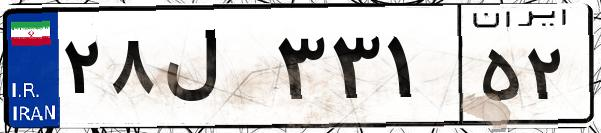1: (385, 28, 445, 110)
2: (57, 26, 110, 100), (525, 38, 570, 115)
3: (270, 28, 330, 110), (330, 28, 385, 110)
5: (475, 38, 525, 113)
8: (110, 28, 158, 98)
ل: (158, 20, 270, 120)
